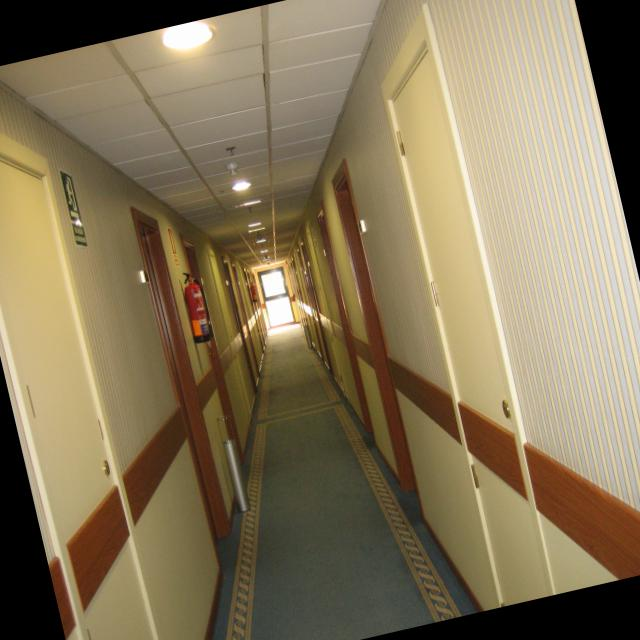ceiling beam: (0, 0, 382, 268)
door bars: (392, 49, 548, 605), (0, 159, 154, 640)
floor -X: (210, 324, 477, 640)
wall clock: (286, 0, 640, 612), (0, 82, 267, 640), (252, 261, 300, 329)
